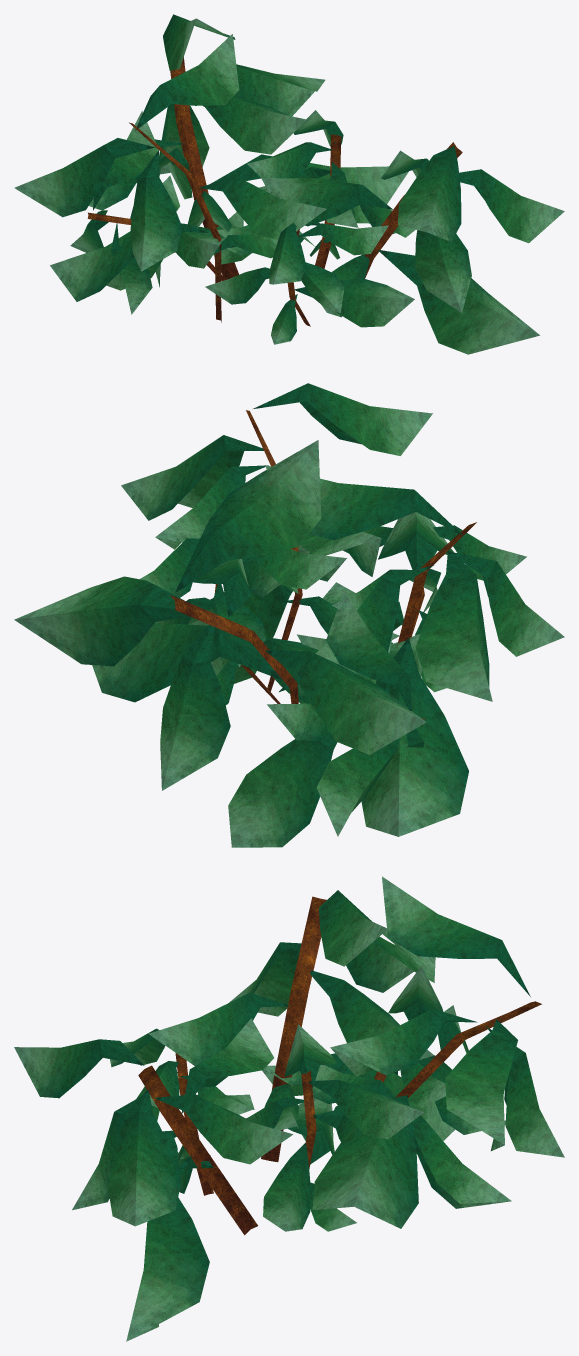
The model's file is shrub_04.glb.
3 views of the same model, one above another, from view 1: azimuth 30°, elevation 25°; view 2: azimuth 150°, elevation 25°; view 3: azimuth 270°, elevation 25° (orthographic). The views are drawn at different scales.
Visible parts, largest first — view 1: SHRUB_04; view 2: SHRUB_04; view 3: SHRUB_04.
Part boxes in pixels (x1=…): SHRUB_04: x1=14, y1=14, x2=564, y2=354; SHRUB_04: x1=14, y1=383, x2=564, y2=847; SHRUB_04: x1=14, y1=876, x2=564, y2=1341.
Size of the model in its own units: 5.43 by 3.8 by 5.38.
Materials: 1 (1 with a texture image).
